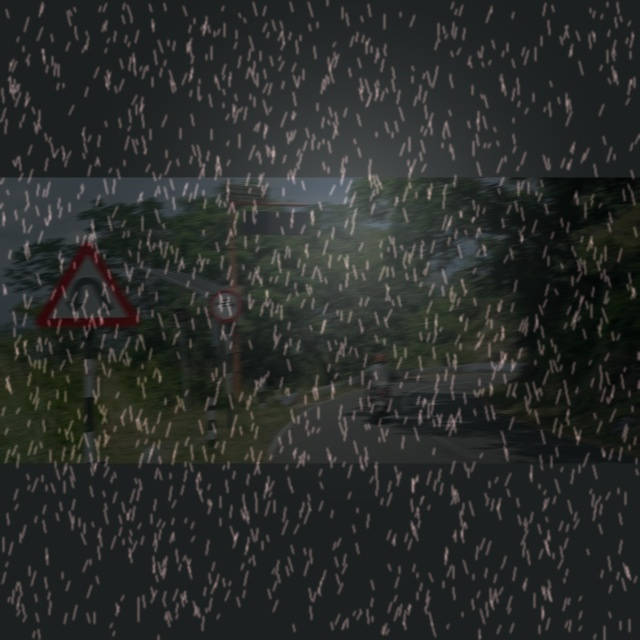Left_Hair_Pin_Bend: (36, 240, 139, 333)
